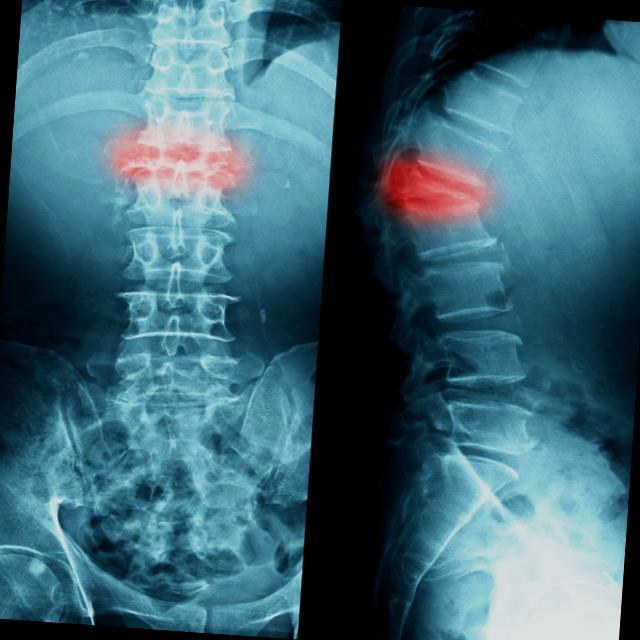Compression-Crush Fracutre: (119, 128, 257, 177), (384, 159, 492, 205)
